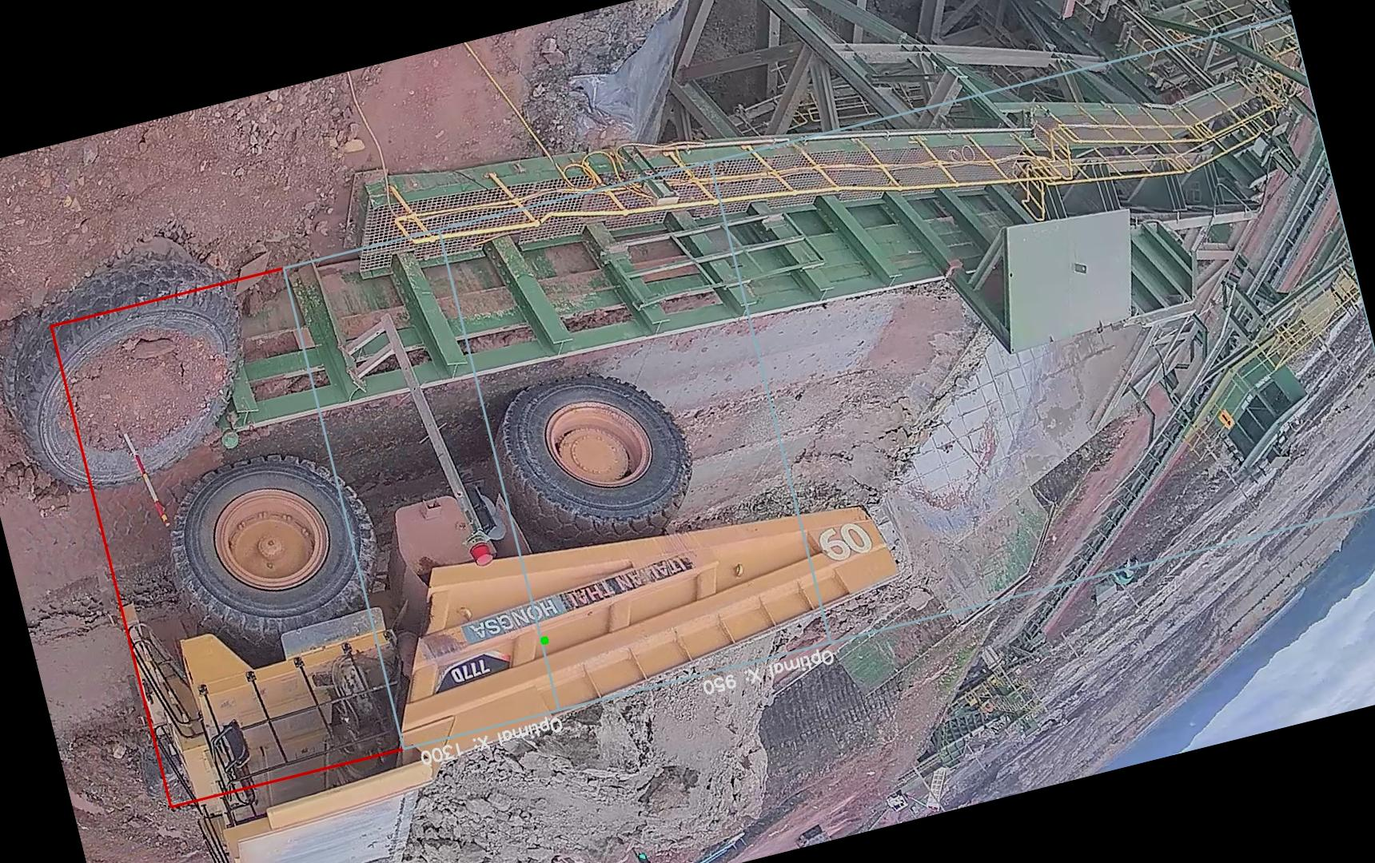company: (450, 548, 713, 652)
full_load: (411, 643, 820, 863)
mining_truck: (83, 313, 974, 863)
tail_number: (807, 506, 885, 571)
truck_size: (418, 642, 516, 696)
